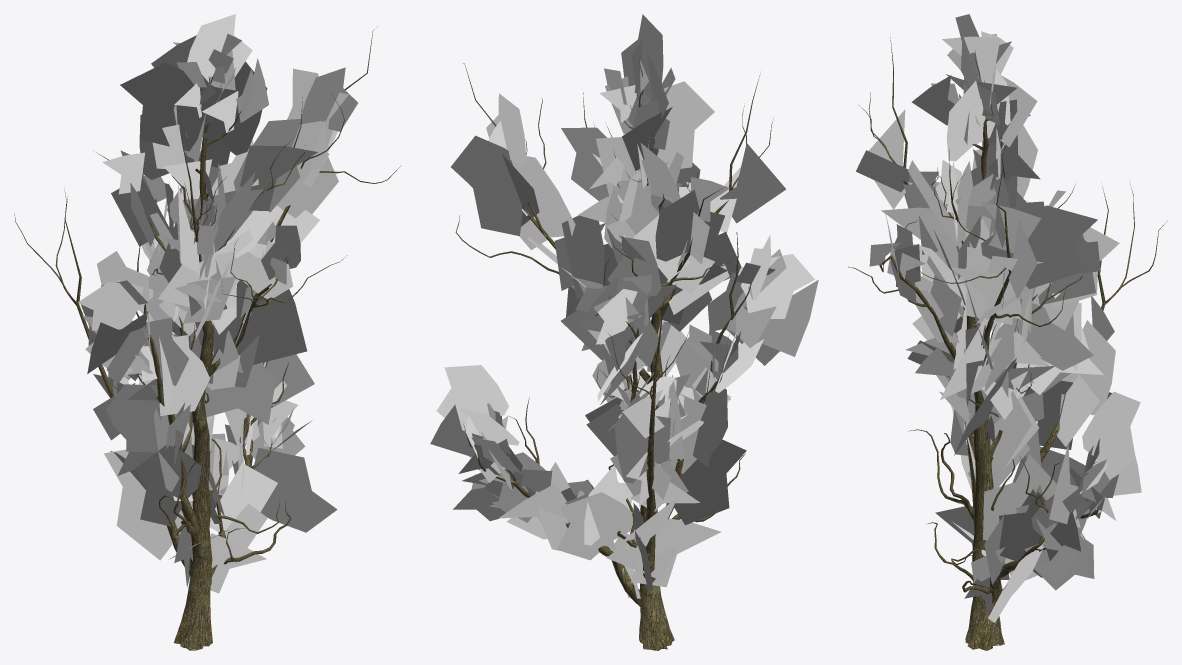
Rendered from Tree_6285.fbx.
The picture shows the model from 3 angles, left to right: view 1: azimuth 30°, elevation 25°; view 2: azimuth 150°, elevation 25°; view 3: azimuth 270°, elevation 25°; orthographic projection. The views are drawn at different scales.
Parts seen in each view (by area): view 1: Tree_6285_Viaz_AT, Tree_6285_VIAZ_bARK; view 2: Tree_6285_Viaz_AT, Tree_6285_VIAZ_bARK; view 3: Tree_6285_Viaz_AT, Tree_6285_VIAZ_bARK.
Part boxes in pixels (box(x1,y1,x2,y2)): Tree_6285_Viaz_AT: box(77, 14, 357, 593); Tree_6285_VIAZ_bARK: box(14, 26, 401, 650); Tree_6285_Viaz_AT: box(430, 14, 818, 598); Tree_6285_VIAZ_bARK: box(455, 59, 773, 650); Tree_6285_Viaz_AT: box(856, 14, 1141, 622); Tree_6285_VIAZ_bARK: box(848, 37, 1166, 650).
Size of the model in its own units: 27.43 by 48.69 by 22.15.
